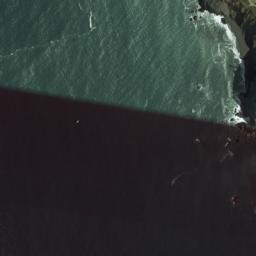boat: (76, 120, 79, 123), (171, 182, 173, 186)
